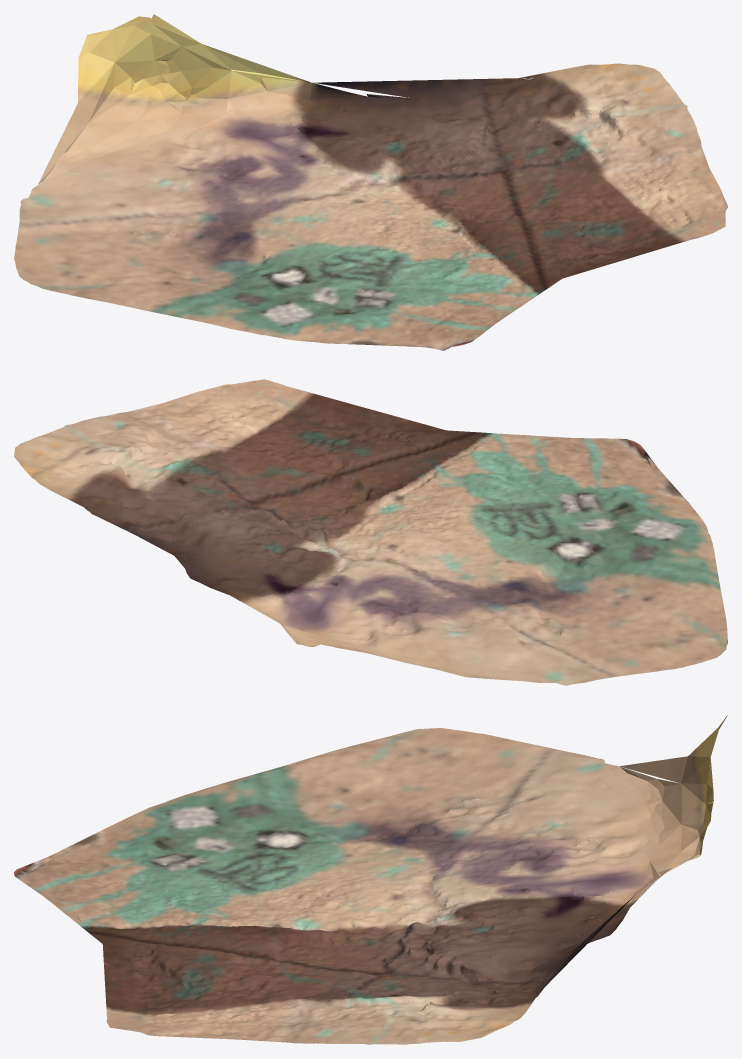
The model's file is Scaniverse_2022-08-18_162329.glb.
The picture shows the model from 3 angles, top to bottom: view 1: azimuth 30°, elevation 25°; view 2: azimuth 150°, elevation 25°; view 3: azimuth 270°, elevation 25°; orthographic projection. The views are drawn at different scales.
Parts seen in each view (by area): view 1: mesh; view 2: mesh; view 3: mesh.
Boxes of the visible parts, left/top/right/bottom form: mesh: left=14, top=14, right=727, bottom=350; mesh: left=14, top=379, right=727, bottom=685; mesh: left=14, top=715, right=727, bottom=1044.
Bounding box in the file's own units: 1.94 × 0.3524 × 1.6.
Materials: 1 (1 with a texture image).
